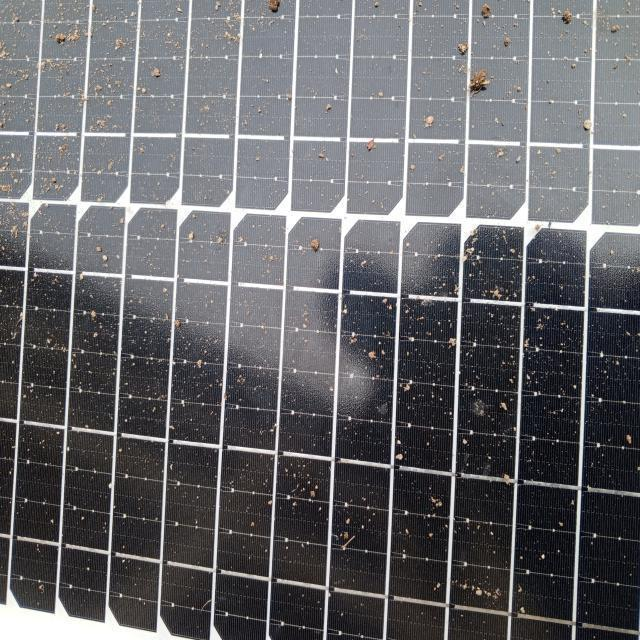Surface Contaminant: (6, 20, 632, 632)
